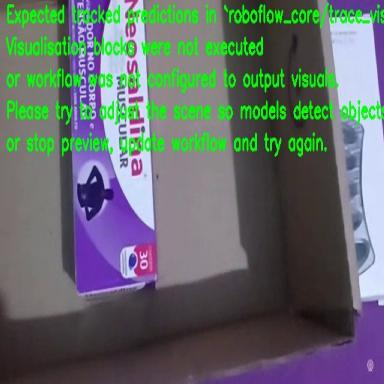Medicamento: (69, 0, 157, 294)
